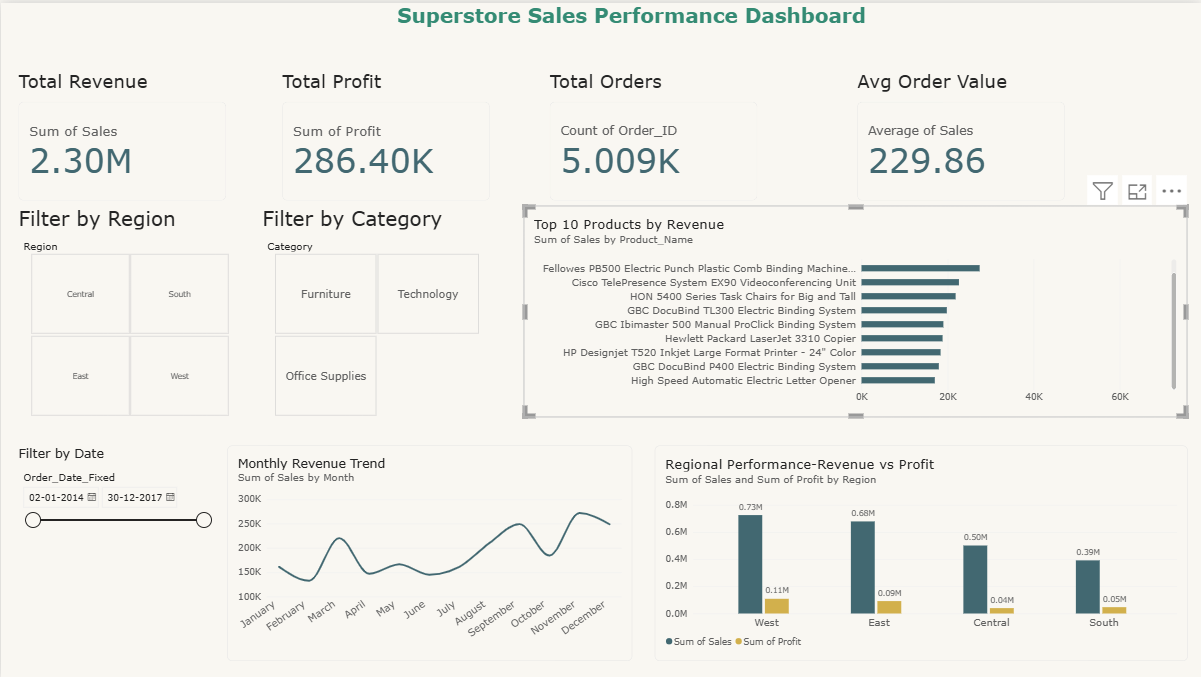

Layout of this report page (visuals, bound fields, positions):
{"tool":"powerbi","page":{"name":"Page 1","canvas":[1920,1080],"ordinal":0},"visuals":[{"type":"cardVisual","title":"Total Revenue","fields":{"Data":["Sum(Superstore_cleaned.Sales)"]},"box":[27.5,105,332.5,210],"z":0},{"type":"cardVisual","title":"Total Profit","fields":{"Data":["Sum(Superstore_cleaned.Profit)"]},"box":[450,105,332.5,210],"z":1000},{"type":"cardVisual","title":"Total Orders","fields":{"Data":["Count(Superstore_cleaned.Order_ID)"]},"box":[877.5,105,332.5,210],"z":2000},{"type":"cardVisual","title":"Avg Order Value","fields":{"Data":["Avg(Superstore_cleaned.Sales)"]},"box":[1370,105,332.5,210],"z":3000},{"type":"lineChart","title":"Monthly Revenue Trend","fields":{"Category":["Superstore_cleaned.Order_Date_Fixed.Variation.Date Hierarchy.Year","Superstore_cleaned.Order_Date_Fixed.Variation.Date Hierarchy.Quarter","Superstore_cleaned.Order_Date_Fixed.Variation.Date Hierarchy.Month","Superstore_cleaned.Order_Date_Fixed.Variation.Date Hierarchy.Day"],"Y":["Sum(Superstore_cleaned.Sales)"]},"box":[361,708,648,345],"z":4000},{"type":"clusteredBarChart","title":"Top 10 Products by Revenue","fields":{"Category":["Superstore_cleaned.Product_Name"],"Y":["Sum(Superstore_cleaned.Sales)"]},"box":[836,324,1062,338],"z":5000},{"type":"clusteredColumnChart","title":"Regional Performance-Revenue vs Profit","fields":{"Category":["Superstore_cleaned.Region"],"Y":["Sum(Superstore_cleaned.Sales)","Sum(Superstore_cleaned.Profit)"]},"box":[1045,708,853,345],"z":6000},{"type":"slicer","title":"Filter by Region","fields":{"Values":["Superstore_cleaned.Region"]},"box":[28,324,355,338],"z":7000},{"type":"slicer","title":"Filter by Category","fields":{"Values":["Superstore_cleaned.Category"]},"box":[417,324,365,338],"z":8000},{"type":"slicer","title":"Filter by Date","fields":{"Values":["Superstore_cleaned.Order_Date_Fixed"]},"box":[28,708,313,343],"z":9000},{"type":"textbox","box":[1686,633,234,383],"z":11000},{"type":"textbox","box":[510,0,997.5,65],"z":12000}]}

Visuals, with their boxes in screenshot pixels (x1, y1, x2, y2), scaled from the page's 1920x1080 canvas onto the 1201x677 screenshot:
"Total Revenue" cardVisual: 17, 66, 225, 197
"Total Profit" cardVisual: 281, 66, 489, 197
"Total Orders" cardVisual: 549, 66, 757, 197
"Avg Order Value" cardVisual: 857, 66, 1065, 197
"Monthly Revenue Trend" lineChart: 226, 444, 631, 660
"Top 10 Products by Revenue" clusteredBarChart: 523, 203, 1187, 415
"Regional Performance-Revenue vs Profit" clusteredColumnChart: 654, 444, 1187, 660
"Filter by Region" slicer: 18, 203, 240, 415
"Filter by Category" slicer: 261, 203, 489, 415
"Filter by Date" slicer: 18, 444, 213, 659
textbox: 1055, 397, 1200, 637
textbox: 319, 0, 943, 41
